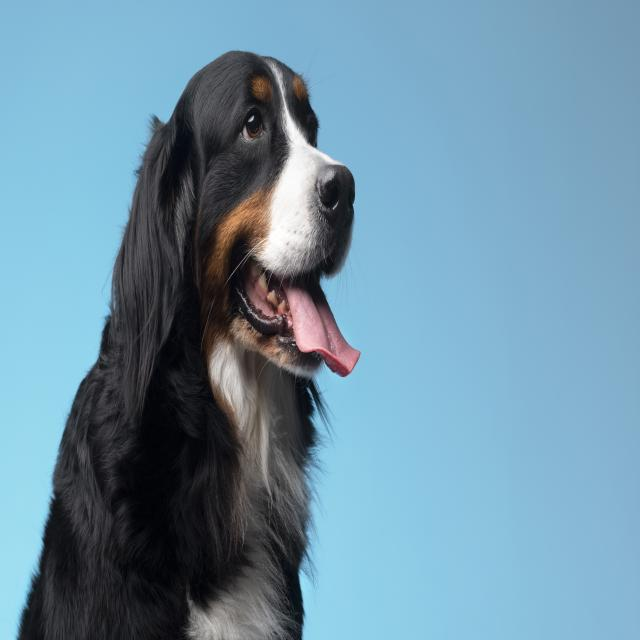dog: (14, 47, 362, 640)
